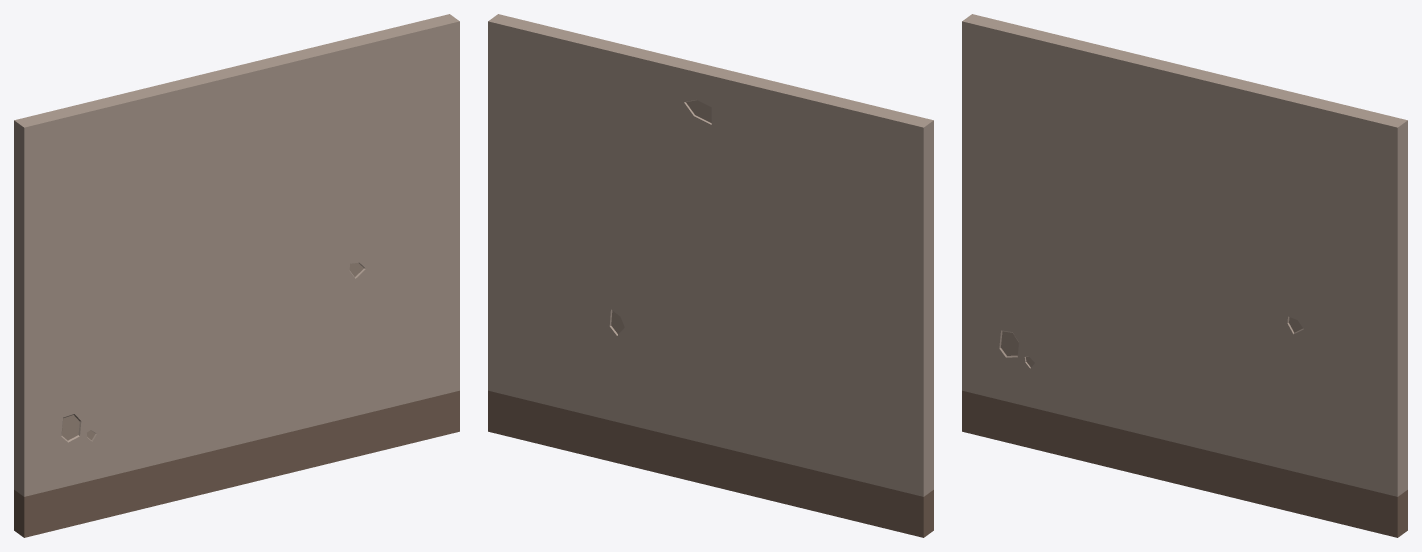
Rendered from Wall2_02.fbx.
3 renders of one model, left to right at view 1: azimuth 30°, elevation 25°; view 2: azimuth 150°, elevation 25°; view 3: azimuth 330°, elevation 25°, orthographic.
Visible parts, largest first — view 1: Wall2_02; view 2: Wall2_02; view 3: Wall2_02.
Part boxes in pixels (x1,y1,x2,y2): Wall2_02: (14,14,459,537); Wall2_02: (488,14,933,537); Wall2_02: (962,14,1407,537).
Bounding box in the file's own units: 1000 × 900 × 40.
